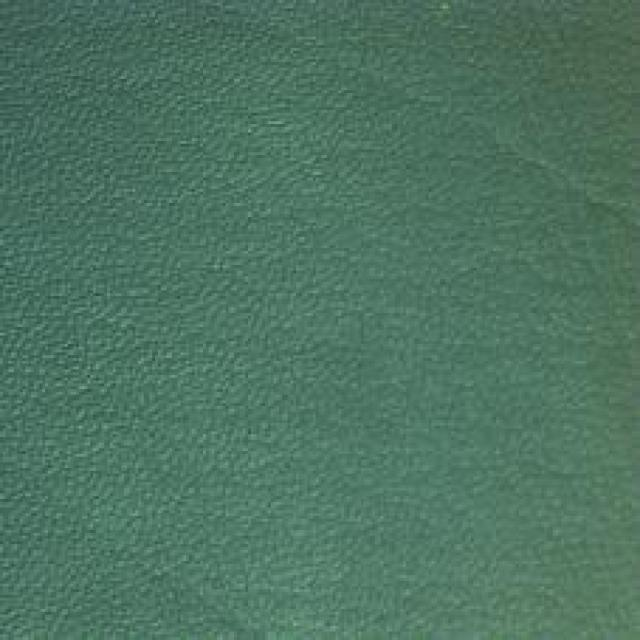Growth Marks: (361, 53, 568, 214), (79, 483, 237, 624)
